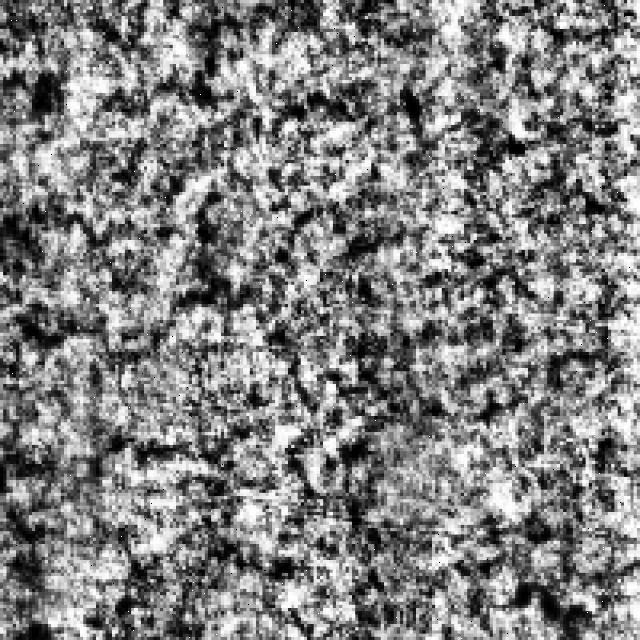Pitted_Surface: (4, 160, 406, 490)
